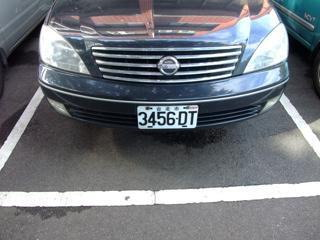plate: (135, 103, 199, 130)
